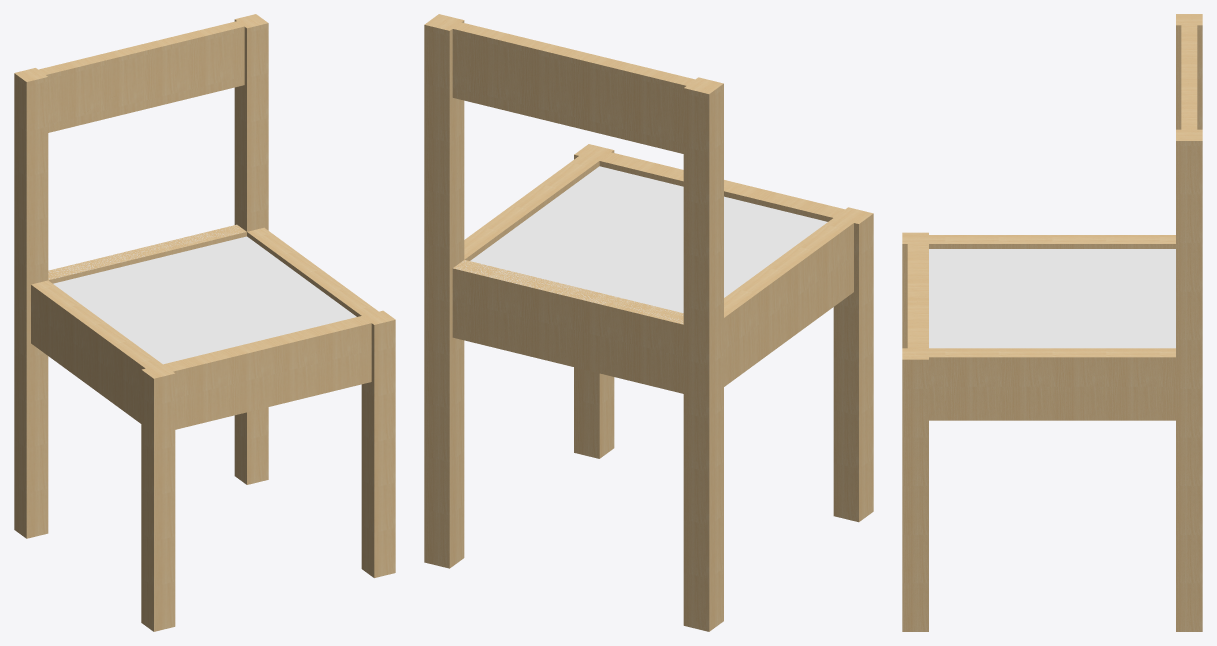
Rendered from chair.dae.
3 renders of one model, left to right at view 1: azimuth 30°, elevation 25°; view 2: azimuth 150°, elevation 25°; view 3: azimuth 270°, elevation 25°, orthographic. The views are drawn at different scales.
Parts seen in each view (by area): view 1: SketchUp (×2); view 2: SketchUp (×2); view 3: SketchUp (×2).
Part boxes in pixels (box(x1,y1,x2,y2)): SketchUp (×2): box(14, 14, 395, 631); SketchUp (×2): box(424, 14, 873, 631); SketchUp (×2): box(902, 14, 1202, 631).
Bounding box in the file's own units: 11.02 × 11.02 × 19.88.
3 materials, 2 textured.
